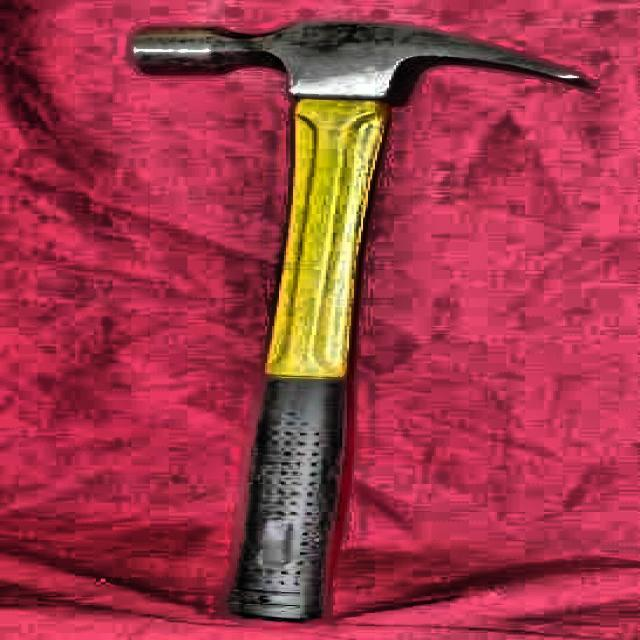hammer: (129, 20, 590, 624)
